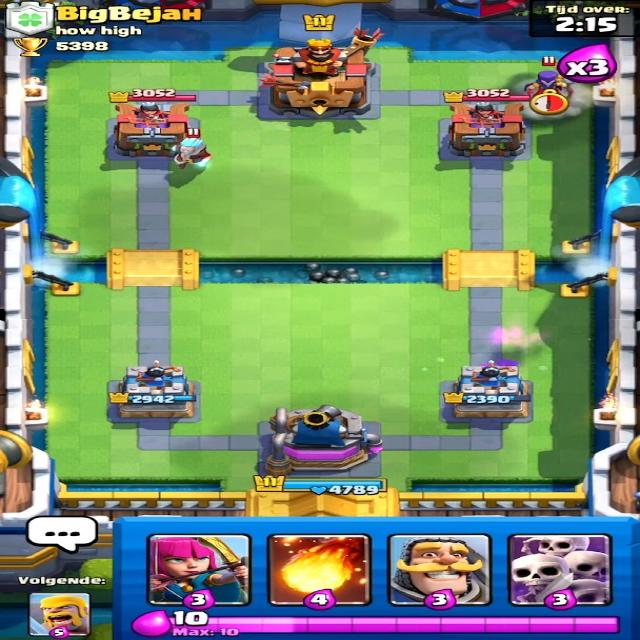Enemy_Ice_Wizard_Troop: (168, 134, 215, 172)
Fireball_Card: (268, 534, 373, 607)
